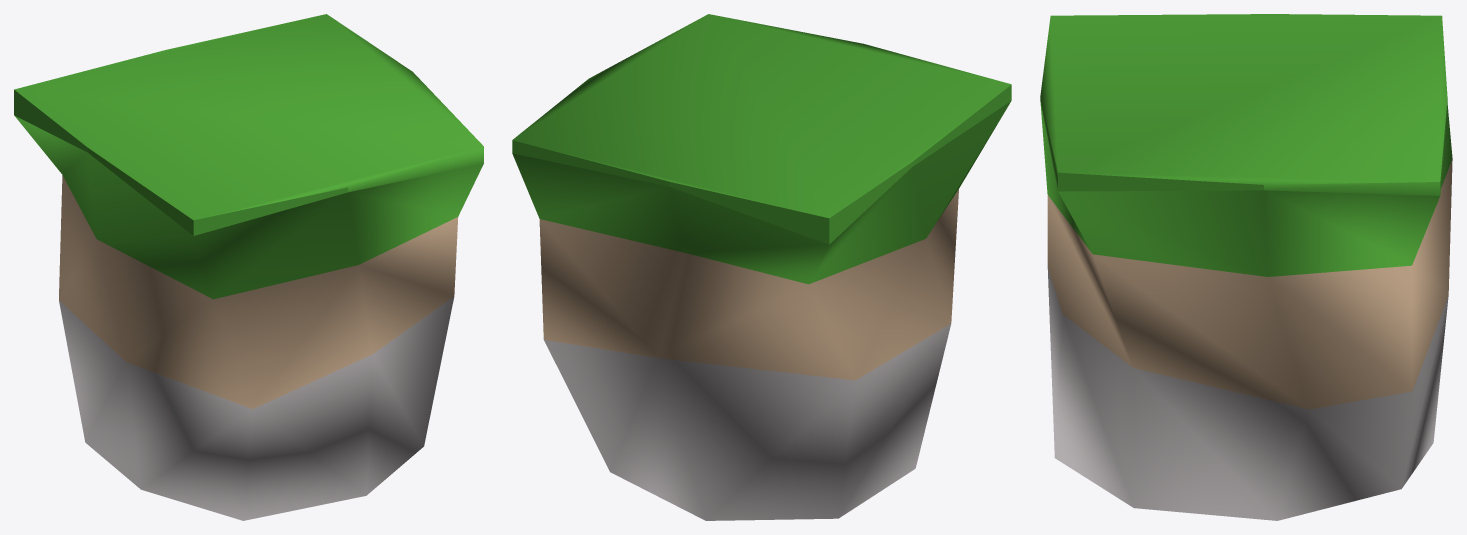
The model's file is platform_2.glb.
3 views of the same model, side by side, from view 1: azimuth 30°, elevation 25°; view 2: azimuth 150°, elevation 25°; view 3: azimuth 270°, elevation 25° (orthographic). The views are drawn at different scales.
Parts seen in each view (by area): view 1: Island01; view 2: Island01; view 3: Island01.
Part boxes in pixels (bbox=[...]): Island01: bbox=[14, 14, 483, 520]; Island01: bbox=[512, 14, 1011, 520]; Island01: bbox=[1040, 14, 1452, 520].
Size of what is drawn, in the model's own units: 0.9985 by 1.02 by 1.
